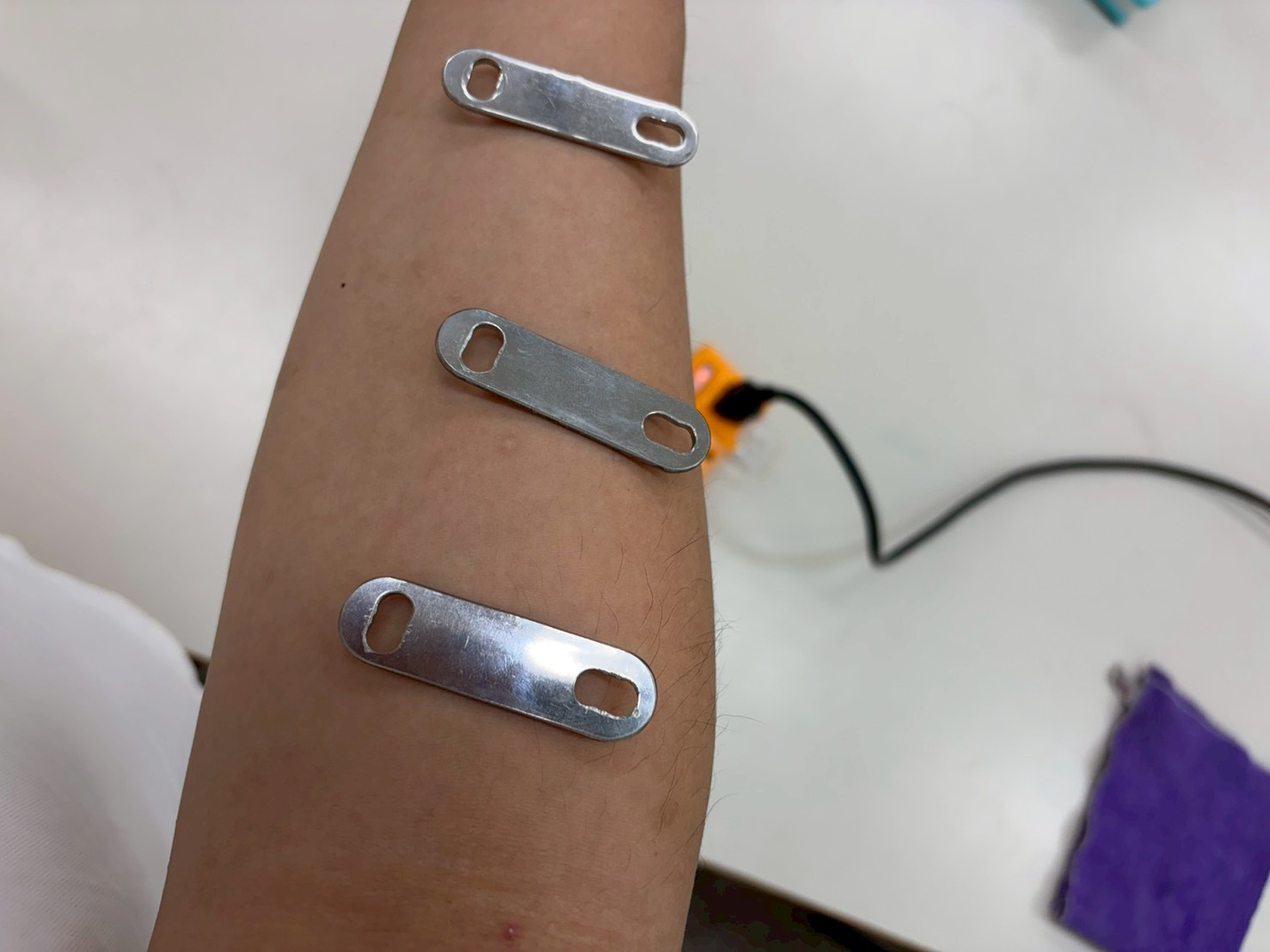Fe: (317, 656, 420, 952), (418, 377, 511, 674), (421, 105, 493, 391)
